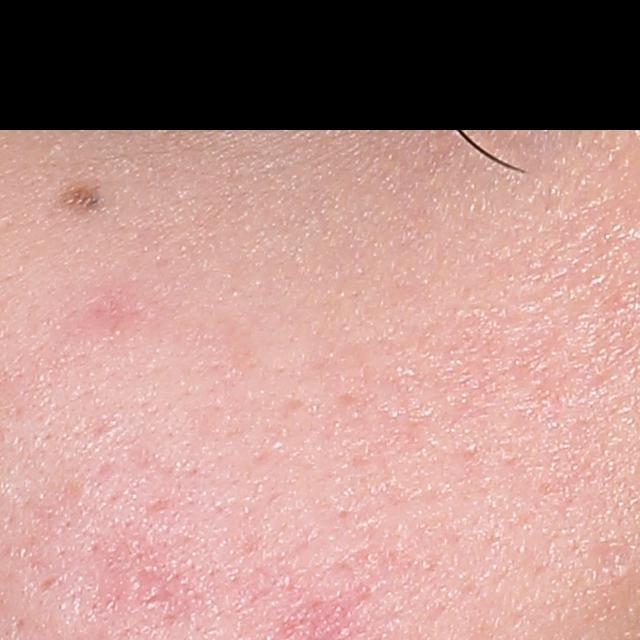nevus: (60, 185, 105, 212)
